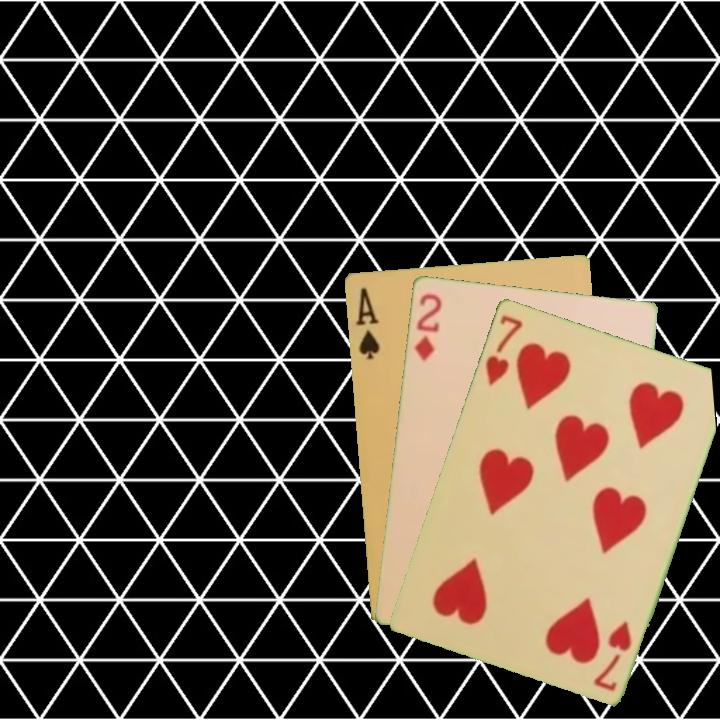2d: (410, 289, 444, 363)
7h: (481, 311, 526, 389), (589, 616, 634, 694)
As: (352, 284, 382, 362)
